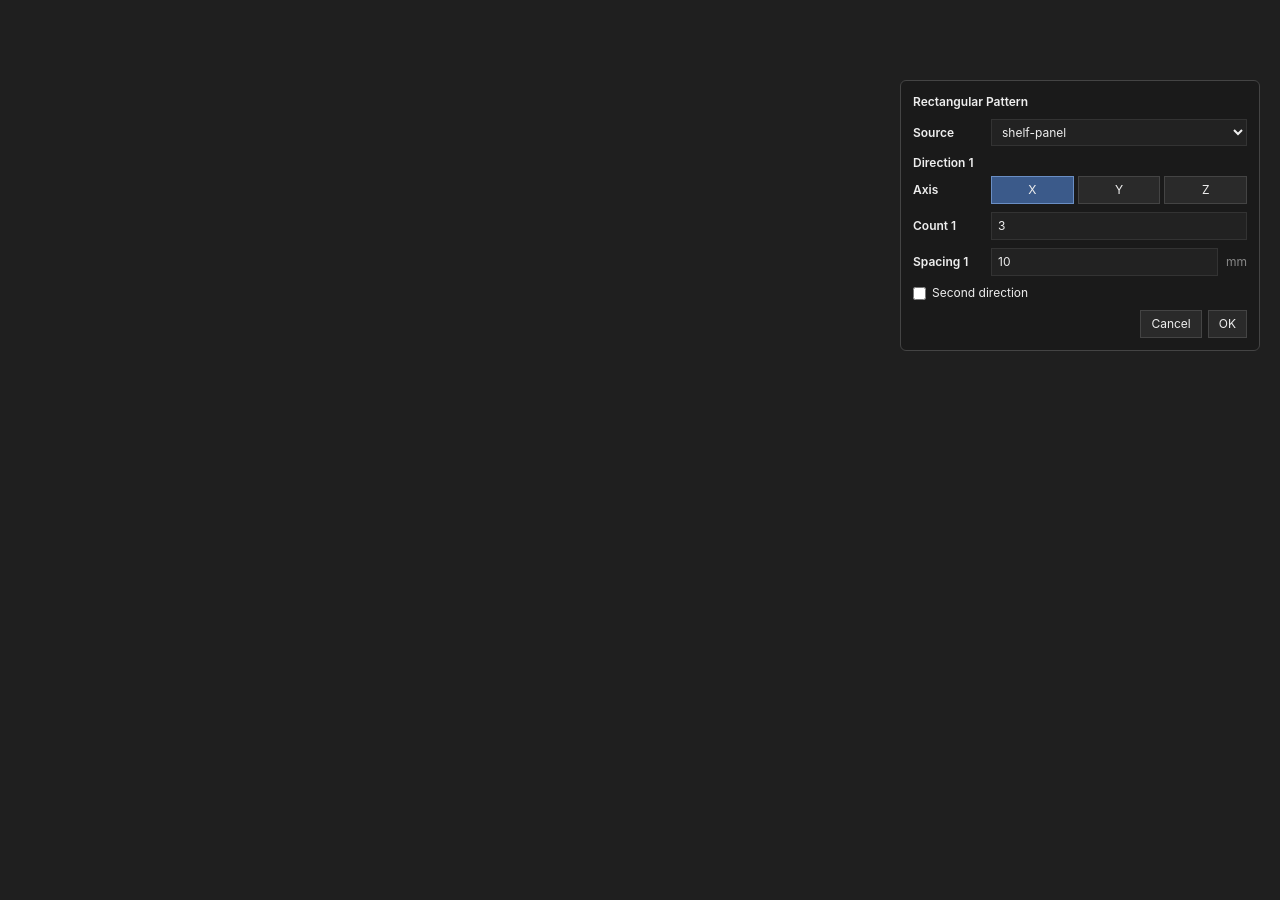
Scenario: ComponentPatternDialog › OK disabled when spacing is 0
Replace the text in the field labelled "Spacing 1" with "0" at (1104, 262), box [991,248,1218,276]
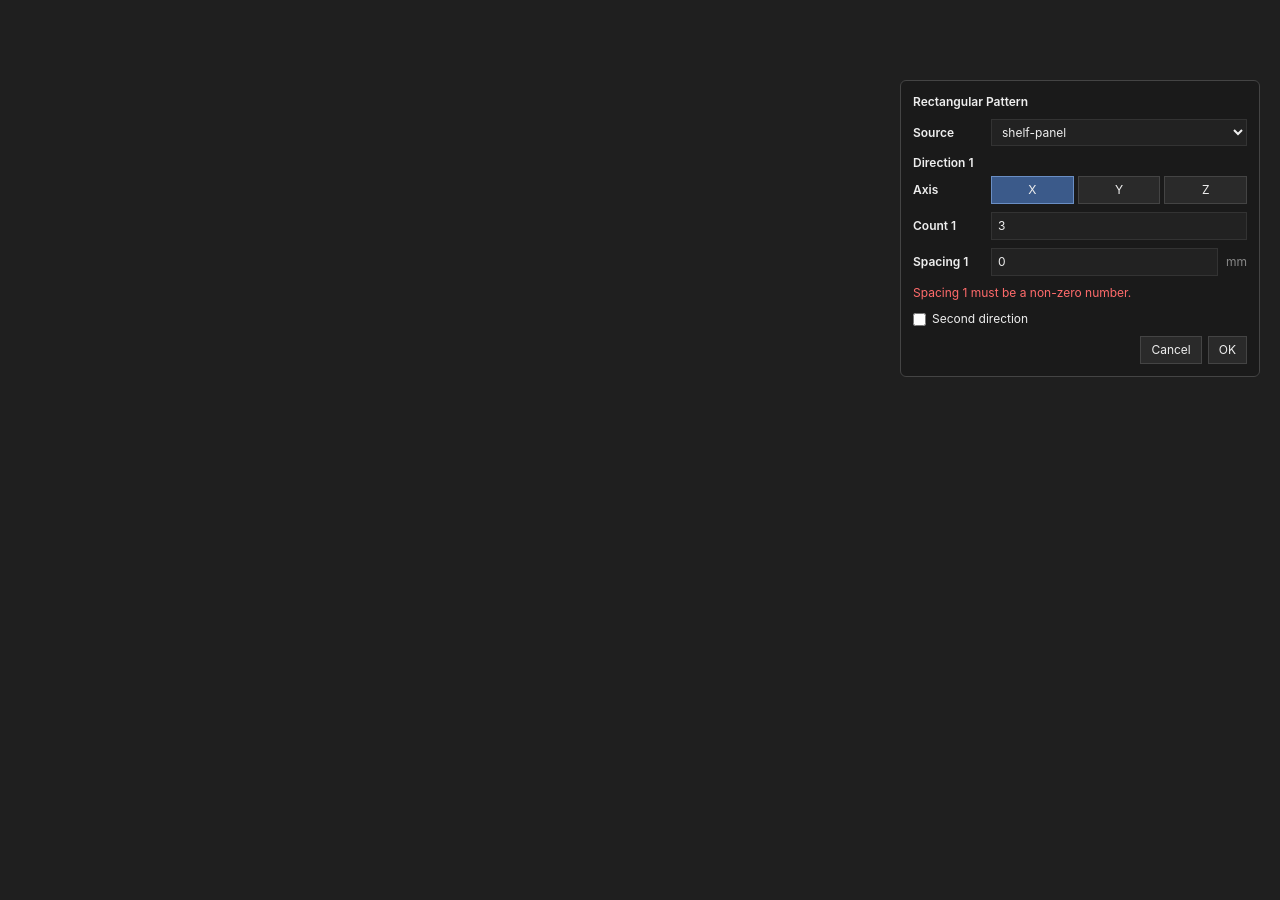
expect the button "OK" is disabled: met, box [1208,336,1247,364]
